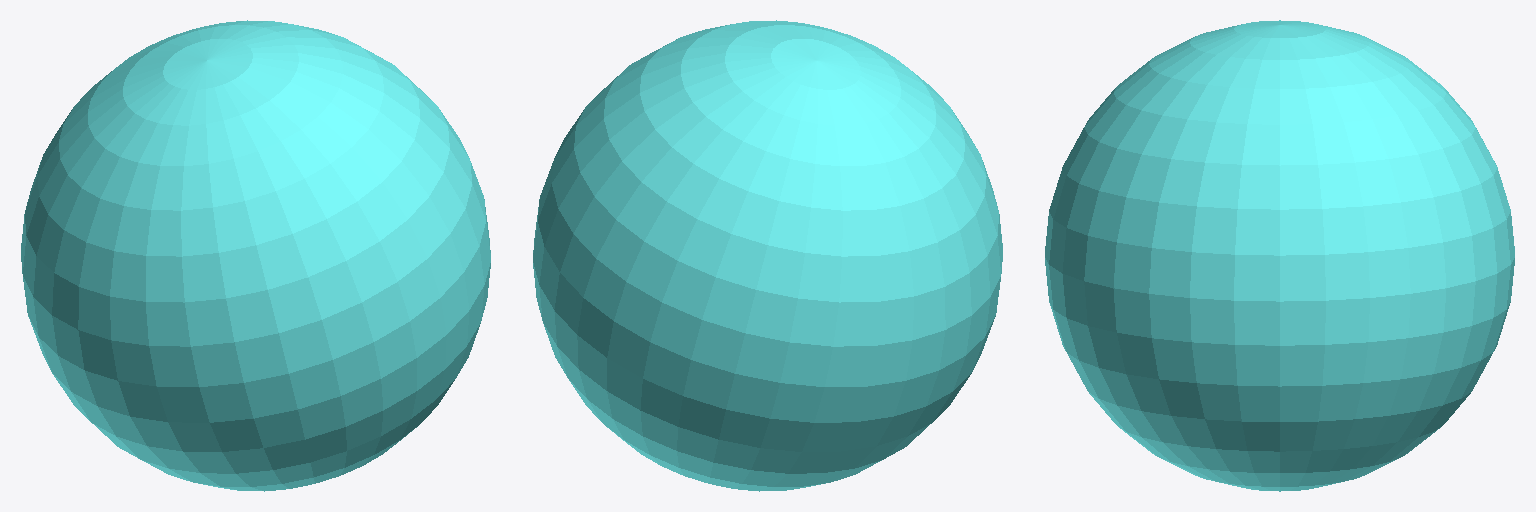
robot.urdf — KinovaG3_7DOF_HandEgrip:
<?xml version="1.0"?>
<!-- URDF model of Kinova Gen 3 robot arm with Robotiq Hand-E gripper for PyBullet -->
<robot name="KinovaG3_7DOF_HandEgrip" xmlns:xacro="http://ros.org/wiki/xacro">
  <link name="base_link">
    <inertial>
      <origin xyz="-0.000648 -0.000166 0.084487" rpy="0 0 0" />
      <mass value="1.697" />
      <inertia ixx="0.004622" ixy="9E-06" ixz="6E-05" iyy="0.004495" iyz="9E-06" izz="0.002079" />
    </inertial>
    <visual>
      <origin xyz="0 0 0" rpy="0 0 0"/>
      <geometry>
        <mesh filename="file://meshes/arm/base_adj.dae" />
      </geometry>
      <material name="white">
        <color rgba="1.0 1.0 1.0 1" />
      </material>
    </visual>
    <collision>
      <origin xyz="0 0 0.0854" rpy="-3.1415894 0 0"/>
      <geometry>
        <cylinder radius="0.046" length="0.1708"/>
      </geometry>
    </collision>
  </link>
  <joint name="Actuator1" type="continuous">
    <parent link="base_link"/>
    <child link="shoulder"/>
    <axis xyz="1.2246469e-16 0 1"/>
    <limit effort="54" velocity="1.361"/>
    <origin xyz="0 0 0.15643" rpy="3.1415927 1.2246469e-16 3.1415927"/>
  </joint>
  <link name="shoulder">
    <inertial>
      <origin xyz="-2.3E-05 -0.010364 -0.07336" rpy="0 0 0" />
      <mass value="1.3773" />
      <inertia ixx="0.00457" ixy="1E-06" ixz="2E-06" iyy="0.004831" iyz="0.000448" izz="0.001409" />
    </inertial>
    <visual>
      <origin xyz="0 0 0" rpy="0 0 0"/>
      <geometry>
        <mesh filename="file://meshes/arm/shoulder_adj.dae" />
      </geometry>
    </visual>
    <collision>
      <origin xyz="0 0 -0.038" rpy="-3.3939336e-06 0 0"/>
      <geometry>
        <cylinder radius="0.046" length="0.0435"/>
      </geometry>
    </collision>
    <collision>
      <origin xyz="0 -0.026 -0.0925" rpy="0 0 0"/>
      <geometry>
        <box size="0.092 0.04 0.075"/>
      </geometry>
    </collision>
    <collision>
      <origin xyz="0 -0.0152 -0.12856" rpy="1.5707963 0 0"/>
      <geometry>
        <cylinder radius="0.047" length="0.07"/>
      </geometry>
    </collision>
  </link>
  <joint name="Actuator2" type="revolute">
    <parent link="shoulder"/>
    <child link="half_arm_1"/>
    <axis xyz="9.713438e-07 3.390567e-07 1"/>
    <limit effort="54" lower="-2.41" upper="2.41" velocity="1.361"/>
    <origin xyz="0 0.005375 -0.12838" rpy="1.5707964 0.29999915 -1.0167554e-06"/>
  </joint>
  <link name="half_arm_1">
    <inertial>
      <origin xyz="-4.4E-05 -0.09958 -0.013278" rpy="0 0 0" />
      <mass value="1.1636" />
      <inertia ixx="0.011088" ixy="5E-06" ixz="0" iyy="0.001072" iyz="-0.000691" izz="0.011255" />
    </inertial>
    <visual>
      <origin xyz="0 0 0" rpy="0 0 0"/>
      <geometry>
        <mesh filename="file://meshes/arm/halfArm1_adj.dae" />
      </geometry>
    </visual>
    <collision>
      <origin xyz="0 0 -0.0364" rpy="-3.1415894 0 0"/>
      <geometry>
        <cylinder radius="0.046" length="0.038"/>
      </geometry>
    </collision>
    <collision>
      <origin xyz="0 -0.07 -0.036" rpy="-0.055 0 0"/>
      <geometry>
        <box size="0.092 0.136 0.03"/>
      </geometry>
    </collision>
    <collision>
      <origin xyz="0 -0.1792 -0.0064" rpy="1.5707963 0 0"/>
      <geometry>
        <cylinder radius="0.046" length="0.09"/>
      </geometry>
    </collision>
    <collision>
      <origin xyz="0 -0.1105 -0.0155" rpy="-0.52 0 0"/>
      <geometry>
        <box size="0.092 0.085 0.03"/>
      </geometry>
    </collision>
  </link>
  <joint name="Actuator3" type="continuous">
    <parent link="half_arm_1"/>
    <child link="half_arm_2"/>
    <axis xyz="0 -3.3671047e-06 1"/>
    <limit effort="54" velocity="1.361"/>
    <origin xyz="0 -0.21038 -0.006375" rpy="-1.5707997 0 0"/>
  </joint>
  <link name="half_arm_2">
    <inertial>
      <origin xyz="-4.4E-05 -0.006641 -0.117892" rpy="0 0 0" />
      <mass value="1.1636" />
      <inertia ixx="0.010932" ixy="0" ixz="-7E-06" iyy="0.011127" iyz="0.000606" izz="0.001043" />
    </inertial>
    <visual>
      <origin xyz="0 0 0" rpy="0 0 0"/>
      <geometry>
        <mesh filename="file://meshes/arm/halfArm2_adj.dae" />
      </geometry>
    </visual>
    <collision>
      <origin xyz="0 0 -0.0439" rpy="-3.1415894 0 0"/>
      <geometry>
        <cylinder radius="0.046" length="0.055"/>
      </geometry>
    </collision>
    <collision>
      <origin xyz="0 -0.0323 -0.1394" rpy="0 0 0"/>
      <geometry>
        <box size="0.092 0.035 0.142"/>
      </geometry>
    </collision>
    <collision>
      <origin xyz="0 -0.0148 -0.2104" rpy="1.5707963 0 0"/>
      <geometry>
        <cylinder radius="0.046" length="0.07"/>
      </geometry>
    </collision>
    <collision>
      <origin xyz="0 -0.012 -0.1004" rpy="-0.48 0 0"/>
      <geometry>
        <box size="0.092 0.038 0.088"/>
      </geometry>
    </collision>
  </link>
  <joint name="Actuator4" type="revolute">
    <parent link="half_arm_2"/>
    <child link="forearm"/>
    <axis xyz="-3.7824321e-07 3.79854e-06 1"/>
    <limit effort="54" lower="-2.66" upper="2.66" velocity="1.361"/>
    <origin xyz="0 0.006375 -0.21038" rpy="-1.5708054 1.5415918 3.1415796"/>
  </joint>
  <link name="forearm">
    <inertial>
      <origin xyz="-1.8E-05 -0.075478 -0.015006" rpy="0 0 0" />
      <mass value="0.9302" />
      <inertia ixx="0.008147" ixy="-1E-06" ixz="0" iyy="0.000631" iyz="-0.0005" izz="0.008316" />
    </inertial>
    <visual>
      <origin xyz="0 0 0" rpy="0 0 0"/>
      <geometry>
        <mesh filename="file://meshes/arm/forearm_adj.dae" />
      </geometry>
    </visual>
    <collision>
      <origin xyz="0 0 -0.036" rpy="-3.1415894 0 0"/>
      <geometry>
        <cylinder radius="0.046" length="0.04"/>
      </geometry>
    </collision>
    <collision>
      <origin xyz="0 -0.035 -0.0376" rpy="0 0 0"/>
      <geometry>
        <box size="0.07 0.07 0.032"/>
      </geometry>
    </collision>
    <collision>
      <origin xyz="0 -0.115 -0.0315" rpy="-0.1308997 0 0"/>
      <geometry>
        <box size="0.07 0.095 0.032"/>
      </geometry>
    </collision>
    <collision>
      <origin xyz="0 -0.125 -0.0133" rpy="-0.5235997 0 0"/>
      <geometry>
        <box size="0.07 0.09 0.032"/>
      </geometry>
    </collision>
    <collision>
      <origin xyz="0 -0.1884 -0.0064" rpy="1.5707963 0 0"/>
      <geometry>
        <cylinder radius="0.035" length="0.065"/>
      </geometry>
    </collision>
  </link>
  <joint name="Actuator5" type="continuous">
    <parent link="forearm"/>
    <child link="wrist1"/>
    <axis xyz="0 -3.3671047e-06 1"/>
    <limit effort="34" velocity="2.618"/>
    <origin xyz="0 -0.20843 -0.006375" rpy="-1.5707997 0 0"/>
  </joint>
  <link name="wrist1">
    <inertial>
      <origin xyz="1E-06 -0.009432 -0.063883" rpy="0 0 0" />
      <mass value="0.6781" />
      <inertia ixx="0.001596" ixy="0" ixz="0" iyy="0.001607" iyz="0.000256" izz="0.000399" />
    </inertial>
    <visual>
      <origin xyz="0 0 0" rpy="0 0 0"/>
      <geometry>
        <mesh filename="file://meshes/arm/wrist1_adj.dae" />
      </geometry>
    </visual>
    <collision>
      <origin xyz="0 0 -0.0319" rpy="-3.1415894 0 0"/>
      <geometry>
        <cylinder radius="0.035" length="0.035"/>
      </geometry>
    </collision>
    <collision>
      <origin xyz="0 -0.02875 -0.06655" rpy="-0.22 0 0"/>
      <geometry>
        <box size="0.07 0.027 0.065"/>
      </geometry>
    </collision>
    <collision>
      <origin xyz="0 -0.02085 -0.1059" rpy="1.5707963 0 0"/>
      <geometry>
        <cylinder radius="0.035" length="0.067"/>
      </geometry>
    </collision>
  </link>
  <joint name="Actuator6" type="revolute">
    <parent link="wrist1"/>
    <child link="wrist2"/>
    <axis xyz="5.792202e-08 2.207132e-06 1"/>
    <limit effort="34" lower="-2.23" upper="2.23" velocity="2.618"/>
    <origin xyz="0 0.00017505 -0.10593" rpy="1.5707984 0.99999905 -1.0720282e-07"/>
  </joint>
  <link name="wrist2">
    <inertial>
      <origin xyz="1E-06 -0.045483 -0.00965" rpy="0 0 0" />
      <mass value="0.6781" />
      <inertia ixx="0.001641" ixy="0" ixz="0" iyy="0.00041" iyz="-0.000278" izz="0.001641" />
    </inertial>
    <visual>
      <origin xyz="0 0 0" rpy="0 0 0"/>
      <geometry>
        <mesh filename="file://meshes/arm/wrist2_adj.dae" />
      </geometry>
    </visual>
    <collision>
      <origin xyz="0 0 -0.0344" rpy="-3.1415894 0 0"/>
      <geometry>
        <cylinder radius="0.035" length="0.04"/>
      </geometry>
    </collision>
    <collision>
      <origin xyz="0 -0.0404 -0.0288" rpy="-0.22 0 0"/>
      <geometry>
        <box size="0.07 0.065 0.027"/>
      </geometry>
    </collision>
    <collision>
      <origin xyz="0 -0.08844 -0.0002" rpy="1.5707963 0 0"/>
      <geometry>
        <cylinder radius="0.035" length="0.06"/>
      </geometry>
    </collision>
  </link>
  <joint name="Actuator7" type="continuous">
    <parent link="wrist2"/>
    <child link="bracelet_w_camera"/>
    <axis xyz="-5.182391e-07 -3.9823344e-06 1"/>
    <limit effort="34" velocity="2.618"/>
    <origin xyz="0 -0.10593 -0.00017505" rpy="1.7001996 1.5707923 -3.0121853"/>
  </joint>
  <link name="bracelet_w_camera">
    <inertial>
      <origin xyz="-0.000281 -0.011402 -0.029798" rpy="0 0 0" />
      <mass value="0.5006" />
      <inertia ixx="0.000587" ixy="3E-06" ixz="3E-06" iyy="0.000369" iyz="0.000118" izz="0.000609" />
    </inertial>
    <visual>
      <origin xyz="0 0 0" rpy="0 0 0"/>
      <geometry>
        <mesh filename="file://meshes/arm/bracelet_vision.dae" />
      </geometry>
    </visual>
    <collision>
      <origin xyz="0 0 -0.039425" rpy="-3.1415894 0 0"/>
      <geometry>
        <cylinder radius="0.0375" length="0.05"/>
      </geometry>
    </collision>
    <collision>
      <origin xyz="0 -0.036 -0.0493" rpy="0 0 0"/>
      <geometry>
        <box size="0.05 0.02 0.022"/>
      </geometry>
    </collision>
    <collision>
      <origin xyz="0 -0.05967 -0.04925" rpy="0 0 0"/>
      <geometry>
        <box size="0.091 0.03 0.022"/>
      </geometry>
    </collision>
  </link>
  <link name="Robotiq_HandE_gripper">
    <inertial>
      <mass value="0.89" />
      <inertia ixx="0.00534" ixy="1E-06" ixz="1E-06" iyy="0.00545" iyz="1E-06" izz="0.000636" />
    </inertial>
    <visual>
      <origin xyz="0 0 0.0859" rpy="1.5707991 0 1.5707991"/>
      <geometry>
        <mesh filename="file://meshes/gripper/base_bottom.dae" />
      </geometry>
      <material name="black">
        <color rgba="0.27 0.27 0.27 1" />
      </material>
    </visual>
    <visual>
      <origin xyz="0 0 0.0859" rpy="1.5707991 0 1.5707991"/>
      <geometry>
        <mesh filename="file://meshes/gripper/base_top.dae" />
      </geometry>
    </visual>
    <collision>
      <origin xyz="0 0 0.0191" rpy="-3.1415899 -2.827666e-06 1.5707991"/>
      <geometry>
        <cylinder radius="0.0375" length="0.032"/>
      </geometry>
    </collision>
    <collision>
      <origin xyz="0 0 0.0491" rpy="-3.1415899 -2.827666e-06 1.5707991"/>
      <geometry>
        <cylinder radius="0.026" length="0.036"/>
      </geometry>
    </collision>
    <collision>
      <origin xyz="0 0 0.0811" rpy="1.5707991 -2.8276386e-06 1.5707991"/>
      <geometry>
        <box size="0.062 0.036 0.075"/>
      </geometry>
    </collision>
  </link>
  <joint name="gripper_joint" type="fixed">
    <parent link="bracelet_w_camera"/>
    <child link="Robotiq_HandE_gripper"/>
    <origin xyz="0 0 -0.061525" rpy="3.1415858 0 0"/>
  </joint>
  <joint name="grip_actuator_L" type="prismatic">
    <parent link="Robotiq_HandE_gripper"/>
    <child link="left_finger_assembly"/>
    <axis xyz="2.8276306e-06 2.8276386e-06 1"/>
    <origin xyz="0 0 0.0859" rpy="1.5707991 2.8276386e-06 -1.5707991"/>
    <limit effort="185" lower="-0.0003" upper="0.030745" velocity="0.15"/>
  </joint>
  <link name="left_finger_assembly">
    <contact>
      <friction_anchor/>
      <stiffness value="30000.0"/>
      <damping value="1000.0"/>
      <spinning_friction value="0.03"/>
      <lateral_friction value="1.0"/>
    </contact>
    <inertial>
      <mass value="0.04" />
      <inertia ixx="0.1" ixy="1E-06" ixz="1E-06" iyy="0.1" iyz="1E-06" izz="0.1" />
    </inertial>
    <visual>
      <origin xyz="0 0 0" rpy="0 3.1415858 0"/>
      <geometry>
        <mesh filename="file://meshes/gripper/extended_finger.dae" />
      </geometry>
      <material name="grey">
        <color rgba="0.57 0.57 0.57 1" />
      </material>
    </visual>
    <collision>
      <origin xyz="0.00558 0.0146 -0.0492765" rpy="0 0 0"/>
      <geometry>
        <box size="0.02734 0.002 0.037075"/>
      </geometry>
    </collision>
    <collision>
      <origin xyz="0.00558 0.0169 -0.061664" rpy="0 0 0"/>
      <geometry>
        <box size="0.02734 0.0066 0.0123"/>
      </geometry>
    </collision>
    <collision>
      <origin xyz="0.01425 0.0169 -0.041814" rpy="0 0 0"/>
      <geometry>
        <box size="0.01 0.0066 0.052"/>
      </geometry>
    </collision>
    <collision>
      <origin xyz="0 0.027267 -0.059714" rpy="0 0 0"/>
      <geometry>
        <box size="0.016 0.014134 0.0162"/>
      </geometry>
    </collision>
    <collision>
      <origin xyz="0 0.0392 -0.052557" rpy="0 0 0"/>
      <geometry>
        <box size="0.022 0.038 0.0078"/>
      </geometry>
    </collision>
  </link>
  <joint name="grip_actuator_R" type="prismatic">
    <parent link="Robotiq_HandE_gripper"/>
    <child link="right_finger_assembly"/>
    <axis xyz="-2.8276306e-06 2.8276386e-06 1"/>
    <origin xyz="0 0 0.0859" rpy="1.5707991 -2.8276386e-06 1.5707991"/>
    <limit effort="185" lower="-0.0003" upper="0.030745" velocity="0.15"/>
  </joint>
  <link name="right_finger_assembly">
    <contact>
      <friction_anchor/>
      <stiffness value="30000.0"/>
      <damping value="1000.0"/>
      <spinning_friction value="0.03"/>
      <lateral_friction value="1.0"/>
    </contact>
    <inertial>
      <mass value="0.04" />
      <inertia ixx="0.1" ixy="1E-06" ixz="1E-06" iyy="0.1" iyz="1E-06" izz="0.1" />
    </inertial>
    <visual>
      <origin xyz="0 0 0" rpy="0 3.1415858 0"/>
      <geometry>
        <mesh filename="file://meshes/gripper/extended_finger.dae" />
      </geometry>
      <material name="grey" />
    </visual>
    <collision>
      <origin xyz="0.00558 0.0146 -0.0492765" rpy="0 0 0"/>
      <geometry>
        <box size="0.02734 0.002 0.037075"/>
      </geometry>
    </collision>
    <collision>
      <origin xyz="0.00558 0.0169 -0.061664" rpy="0 0 0"/>
      <geometry>
        <box size="0.02734 0.0066 0.0123"/>
      </geometry>
    </collision>
    <collision>
      <origin xyz="0.01425 0.0169 -0.041814" rpy="0 0 0"/>
      <geometry>
        <box size="0.01 0.0066 0.052"/>
      </geometry>
    </collision>
    <collision>
      <origin xyz="0 0.027267 -0.059714" rpy="0 0 0"/>
      <geometry>
        <box size="0.016 0.014134 0.0162"/>
      </geometry>
    </collision>
    <collision>
      <origin xyz="0 0.0392 -0.052557" rpy="0 0 0"/>
      <geometry>
        <box size="0.022 0.038 0.0078"/>
      </geometry>
    </collision>
  </link>
  <!-- virtual target link -->
  <!-- Used to calculate position of gripper's business end -->
  <link name="gripper_target">
    <inertial>
      <origin rpy="0 0 0" xyz="0 0 0"/>
      <mass value="0.0"/>
      <inertia ixx="0.1" ixy="0" ixz="0" iyy="0.1" iyz="0" izz="0.1"/>
    </inertial>
    <visual>
      <geometry>
        <sphere radius="0.025"/>
      </geometry>
      <material name="light_blue">
        <color rgba="0.5 1.0 1.0 0.4"/>
      </material>
    </visual>
  </link>
  <joint name="target_to_gripper" type="fixed">
    <parent link="Robotiq_HandE_gripper"/>
    <child link="gripper_target"/>
    <origin rpy="0 0 0" xyz="0 0 0.125"/>
  </joint>
</robot>

--- What the picture shows (computed from the rendered views, not written in the file) ---
3 views of the same robot in one strip: view 1: azimuth 30°, elevation 25°; view 2: azimuth 150°, elevation 25°; view 3: azimuth 270°, elevation 25° (orthographic).
Robot: KinovaG3_7DOF_HandEgrip — 12 links, 11 joints (3 revolute, 4 continuous, 2 prismatic, 2 fixed); root link base_link; default pose: all joints at 0.
Links seen in each view (by area): view 1: gripper_target; view 2: gripper_target; view 3: gripper_target.
Boxes of the visible links, <box> form: gripper_target: <box>21,20,490,491</box>; gripper_target: <box>533,20,1002,491</box>; gripper_target: <box>1045,20,1514,491</box>.
Size in the robot's own frame: 0.0499 by 0.05 by 0.0499 metres.
Geometry: only primitive shapes (box / cylinder / sphere) drawn; not drawn: 12 mesh visuals (reference in a form the renderer does not follow).